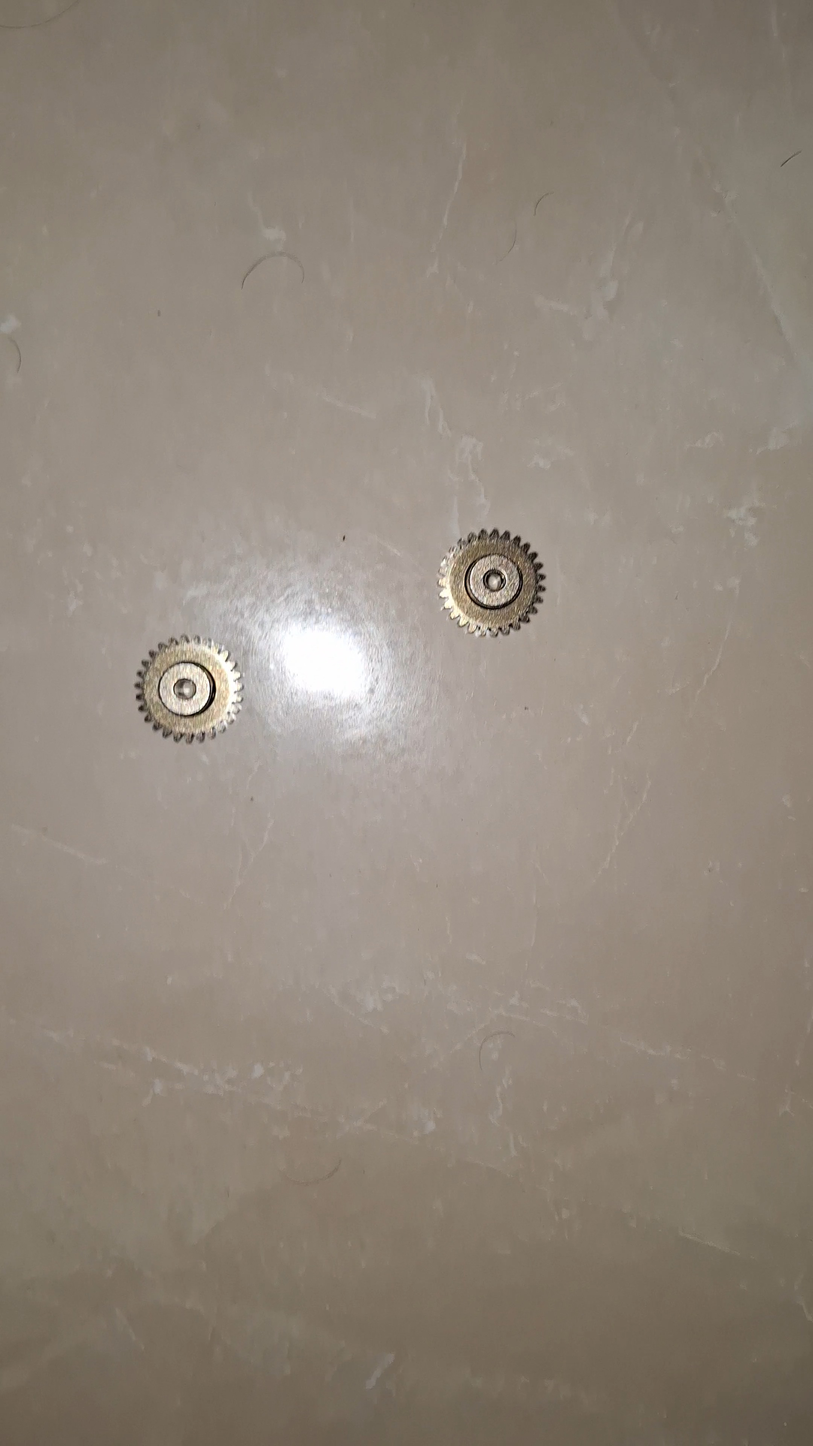spur gear: (438, 529, 544, 635), (136, 636, 242, 742)
